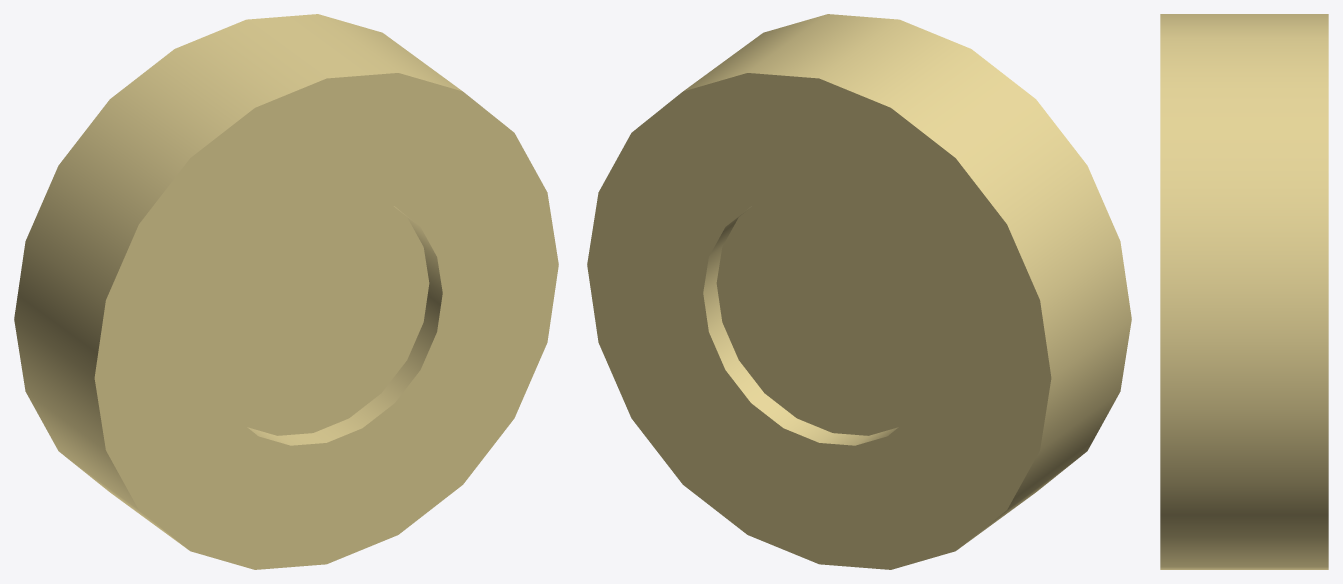
The model's file is Coin.fbx.
The picture shows the model from 3 angles, left to right: view 1: azimuth 30°, elevation 25°; view 2: azimuth 150°, elevation 25°; view 3: azimuth 270°, elevation 25°; orthographic projection. The views are drawn at different scales.
Visible parts, largest first — view 1: pCylinder1; view 2: pCylinder1; view 3: pCylinder1.
Part boxes in pixels (x1=…): pCylinder1: x1=14, y1=14, x2=558, y2=569; pCylinder1: x1=587, y1=14, x2=1131, y2=569; pCylinder1: x1=1160, y1=14, x2=1328, y2=569.
Bounding box in the file's own units: 1 × 1 × 0.3.
